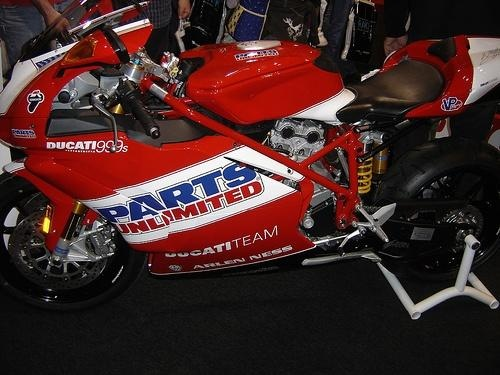motorbike: (1, 1, 500, 315)
